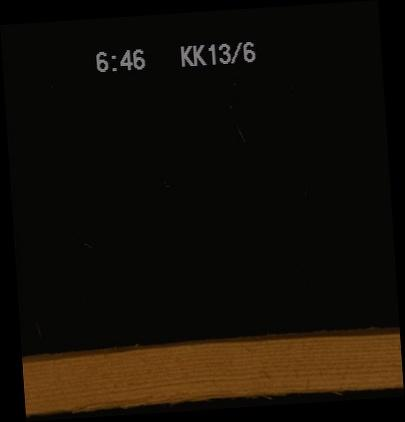wave: (25, 385, 344, 407)
